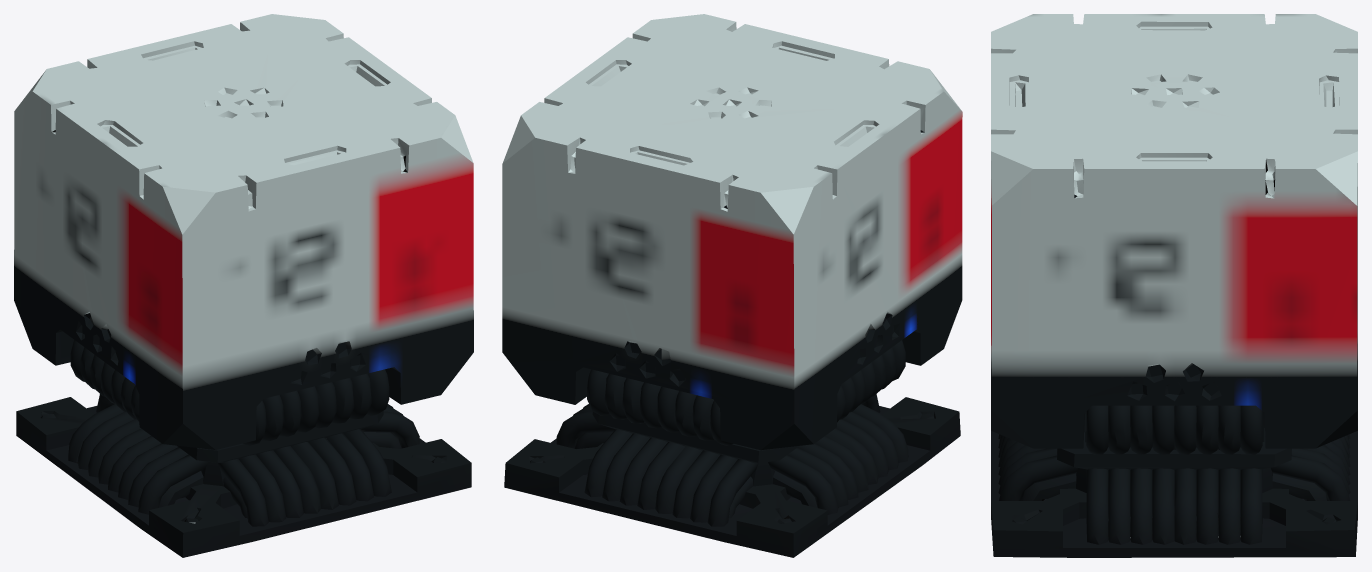
Rendered from pawn.glb.
3 renders of one model, left to right at view 1: azimuth 30°, elevation 25°; view 2: azimuth 150°, elevation 25°; view 3: azimuth 270°, elevation 25°, orthographic. The views are drawn at different scales.
Visible parts, largest first — view 1: pawn; view 2: pawn; view 3: pawn.
Boxes of the visible parts, x1=… form: pawn: x1=14, y1=14, x2=473, y2=557; pawn: x1=502, y1=14, x2=962, y2=557; pawn: x1=991, y1=14, x2=1357, y2=557.
Size of the model in its own units: 50 by 58.47 by 50.
Materials: 1 (1 with a texture image).
